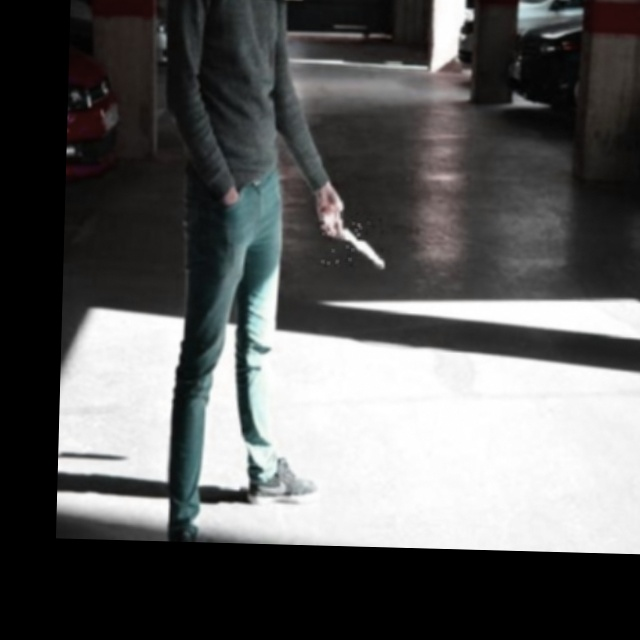Sharp-Object: (321, 206, 386, 269)
